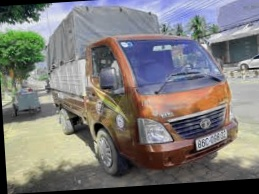Bien-so: (189, 132, 222, 157)
